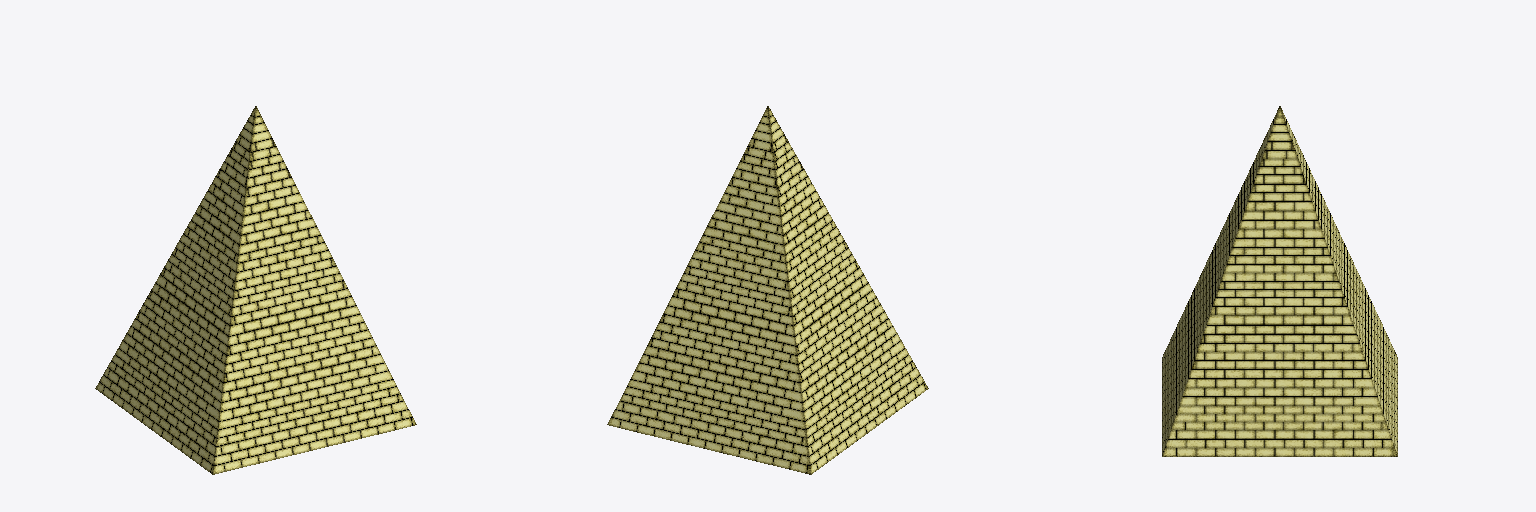
3 views of the same model, side by side, from view 1: azimuth 30°, elevation 25°; view 2: azimuth 150°, elevation 25°; view 3: azimuth 270°, elevation 25° (orthographic).
Visible parts, largest first — view 1: pyramid; view 2: pyramid; view 3: pyramid.
Part boxes in pixels (left/top/right/bottom): pyramid: left=95, top=106, right=416, bottom=474; pyramid: left=607, top=106, right=928, bottom=474; pyramid: left=1162, top=106, right=1397, bottom=456.
Size of the model in its own units: 3.99 by 5.64 by 3.99.
1 materials, 1 textured.